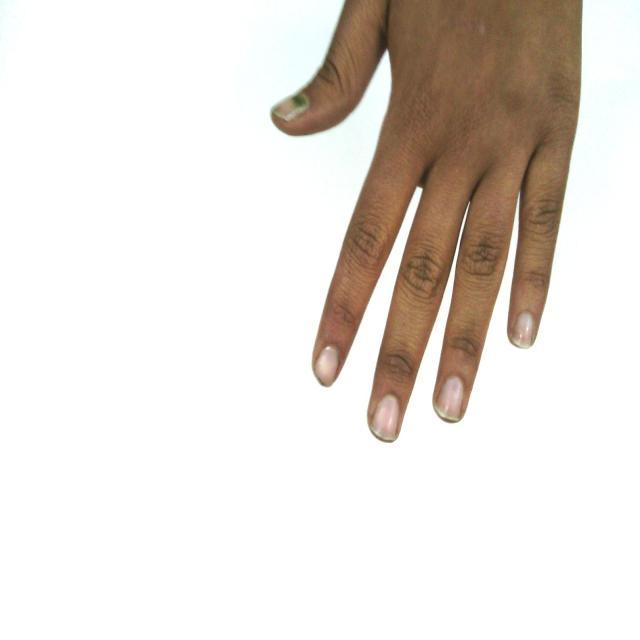Fingernail: (435, 377, 465, 421), (372, 395, 399, 441), (272, 93, 307, 119), (316, 348, 339, 386), (512, 313, 536, 348)
